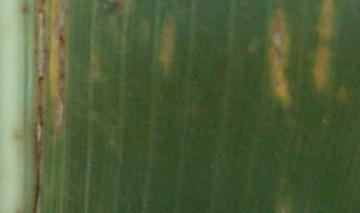tarspot: (57, 33, 66, 45), (35, 74, 44, 81), (39, 119, 43, 126), (58, 73, 63, 76)
